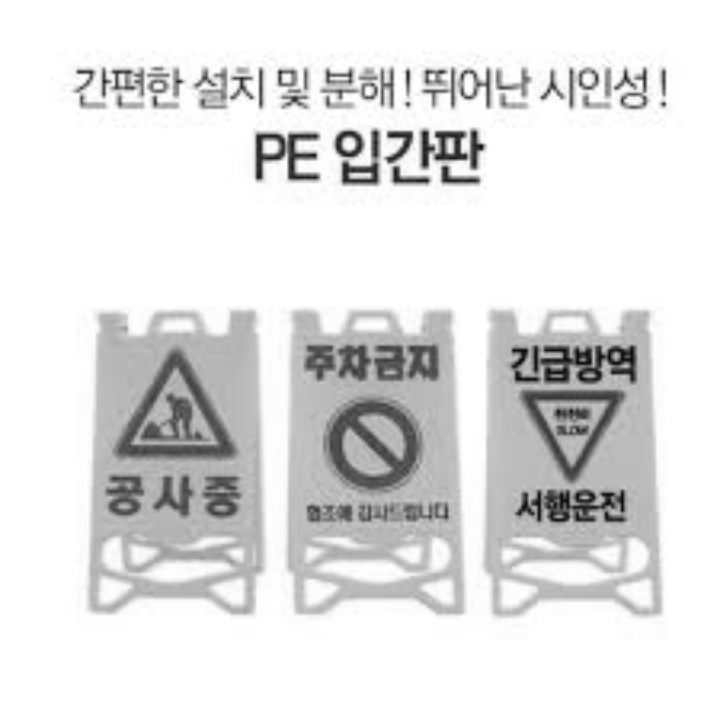const: (143, 382, 208, 445)
